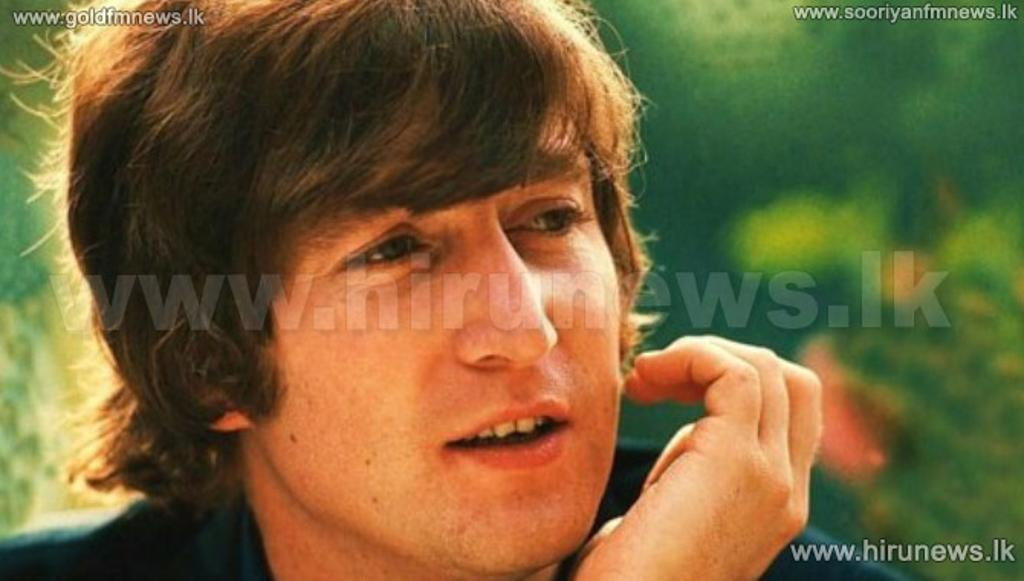face: (245, 33, 621, 549)
